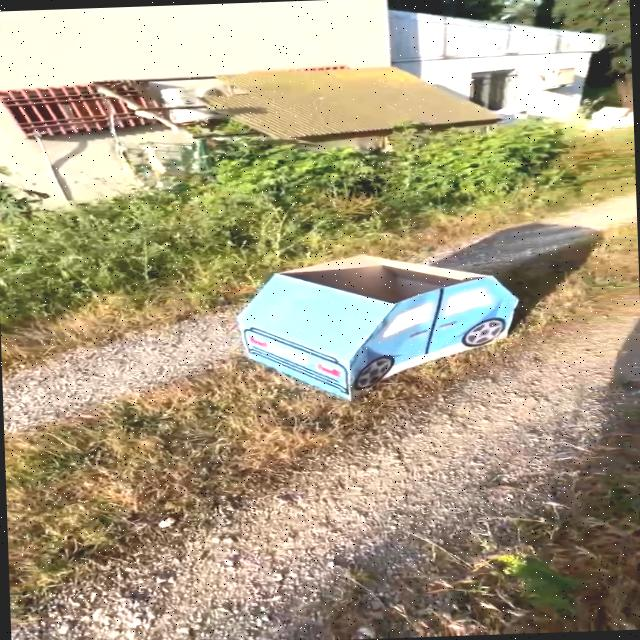blue_car: (195, 234, 553, 406)
